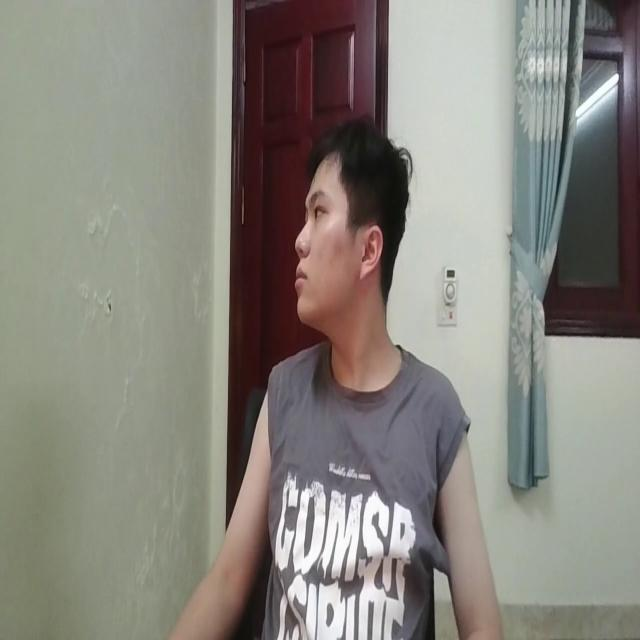student: (153, 126, 505, 640)
